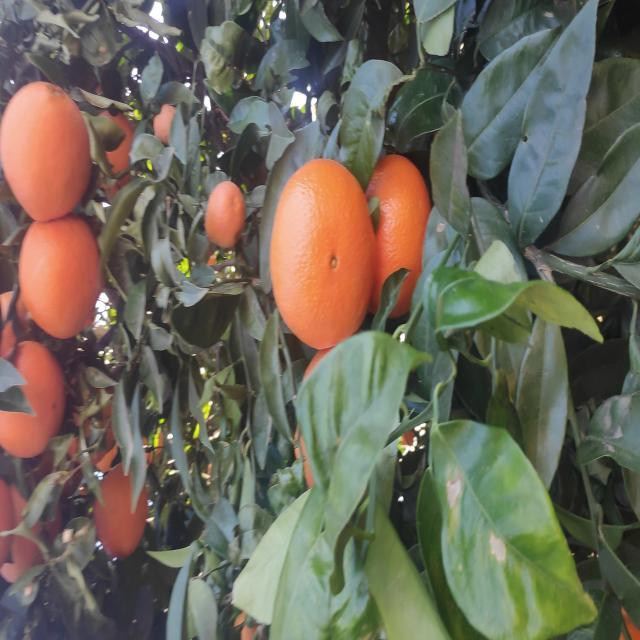Jeruk Sudah Matang: (290, 272, 482, 376), (318, 357, 488, 432), (423, 2, 562, 92), (304, 18, 420, 98), (186, 0, 294, 62), (88, 94, 186, 144), (65, 6, 147, 40), (448, 100, 522, 134), (398, 208, 460, 242), (496, 154, 542, 181), (74, 0, 156, 11)
